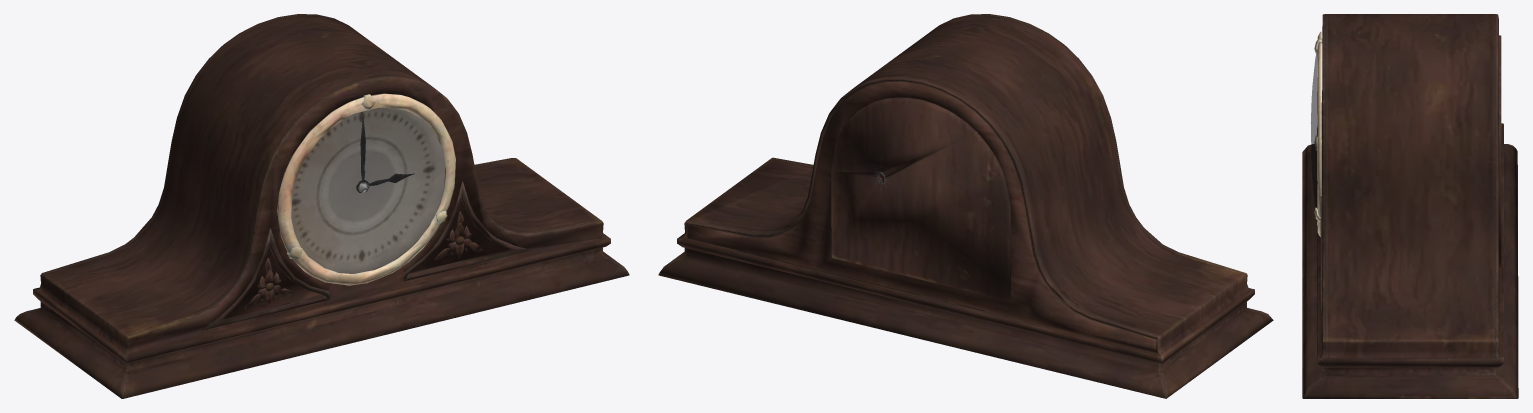
The model's file is mantel_clock_01.glb.
3 views of the same model, side by side, from view 1: azimuth 30°, elevation 25°; view 2: azimuth 150°, elevation 25°; view 3: azimuth 270°, elevation 25° (orthographic).
Visible parts, largest first — view 1: mantel_clock_01, mantel_clock_01_glass; view 2: mantel_clock_01; view 3: mantel_clock_01, mantel_clock_01_glass.
Part boxes in pixels (bbox=[...]): mantel_clock_01: bbox=[14, 14, 629, 398]; mantel_clock_01_glass: bbox=[291, 107, 445, 273]; mantel_clock_01: bbox=[658, 14, 1273, 398]; mantel_clock_01: bbox=[1302, 14, 1518, 398]; mantel_clock_01_glass: bbox=[1311, 53, 1317, 220].
Bounding box in the file's own units: 0.3418 × 0.1604 × 0.126.
Materials: 2 (2 with a texture image).
